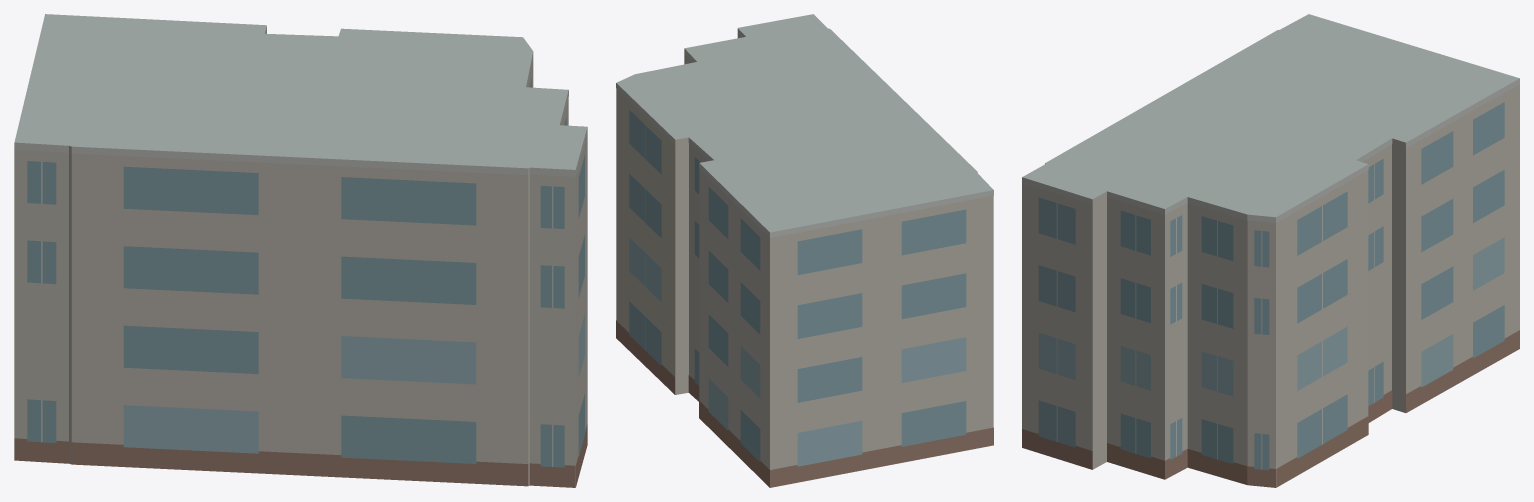
The model's file is survey-upis-32656862.glb.
3 views of the same model, side by side, from view 1: azimuth 30°, elevation 25°; view 2: azimuth 150°, elevation 25°; view 3: azimuth 270°, elevation 25° (orthographic). The views are drawn at different scales.
Parts seen in each view (by area): view 1: survey-upis-32656862.tmp; view 2: survey-upis-32656862.tmp; view 3: survey-upis-32656862.tmp.
Part boxes in pixels (x1,y1,x2,y2): survey-upis-32656862.tmp: [14, 14, 587, 487]; survey-upis-32656862.tmp: [616, 14, 993, 487]; survey-upis-32656862.tmp: [1022, 14, 1519, 487].
Bounding box in the file's own units: 18.22 × 11.3 × 18.85.
